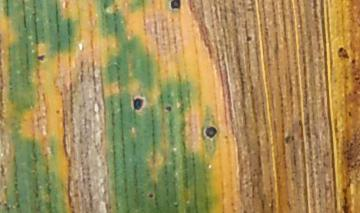tarspot: (341, 178, 350, 213), (131, 96, 145, 113), (335, 46, 350, 60), (243, 21, 252, 44), (204, 125, 216, 140), (246, 1, 256, 16), (169, 1, 182, 11), (35, 52, 46, 63), (62, 1, 71, 10), (284, 135, 291, 145), (54, 107, 61, 117), (147, 191, 155, 199), (164, 104, 172, 112), (346, 163, 358, 168), (344, 154, 352, 161), (346, 110, 352, 118), (347, 141, 355, 147), (353, 76, 360, 82), (351, 57, 356, 64), (352, 89, 357, 95), (242, 209, 246, 213)
